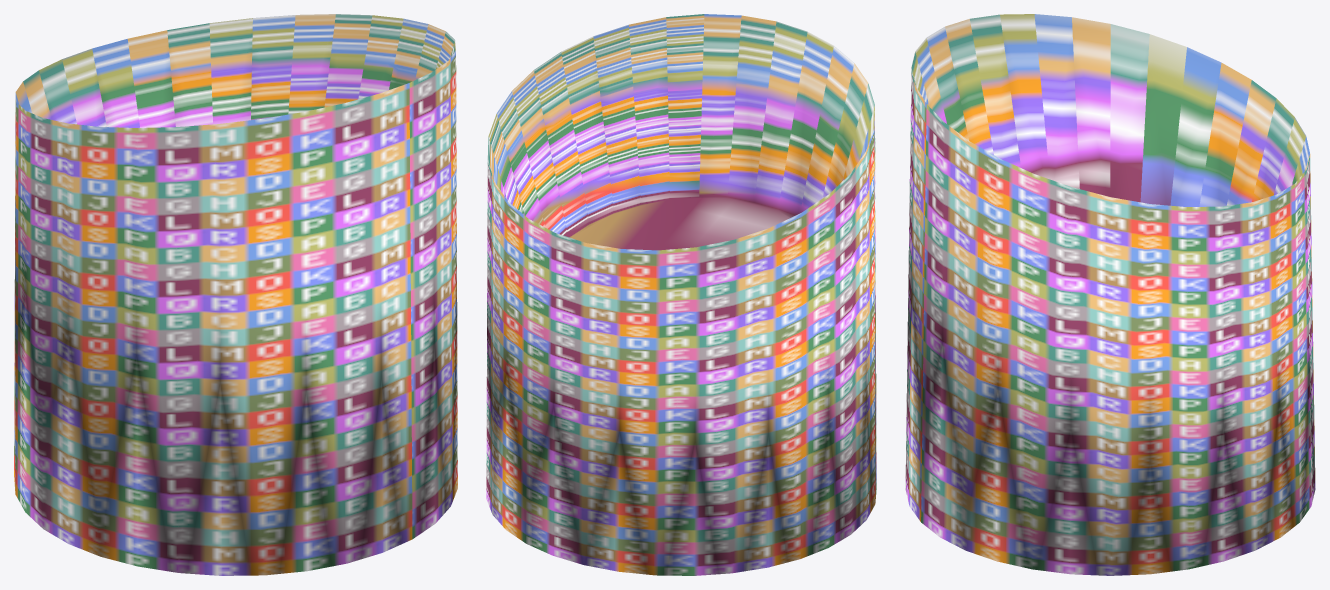
Rendered from beam2.obj.
3 renders of one model, left to right at view 1: azimuth 30°, elevation 25°; view 2: azimuth 150°, elevation 25°; view 3: azimuth 270°, elevation 25°, orthographic. The views are drawn at different scales.
Visible parts, largest first — view 1: Cylinder1; view 2: Cylinder1; view 3: Cylinder1.
Part boxes in pixels (box(x1,y1,x2,y2)): Cylinder1: box(14, 14, 457, 575); Cylinder1: box(486, 14, 876, 575); Cylinder1: box(905, 14, 1315, 575).
Size of the model in its own units: 1.96 by 2.23 by 1.96.
